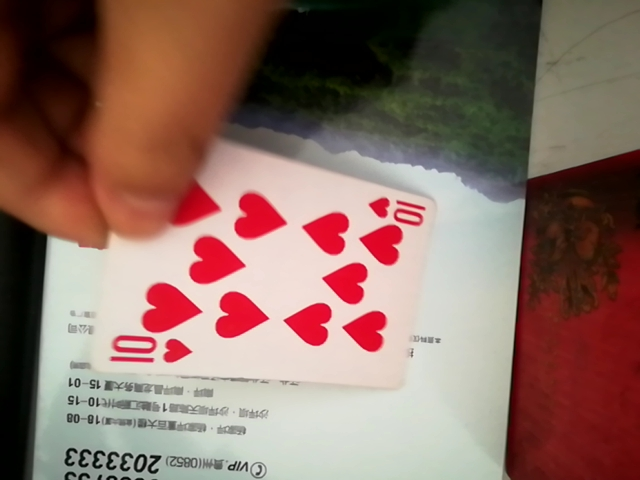hx 10: (108, 152, 437, 386)
